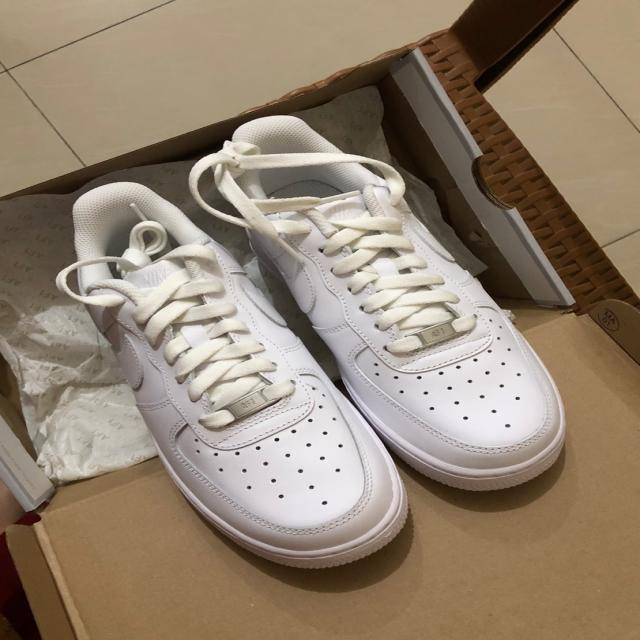nike original air force: (63, 180, 431, 568), (213, 111, 573, 495)
